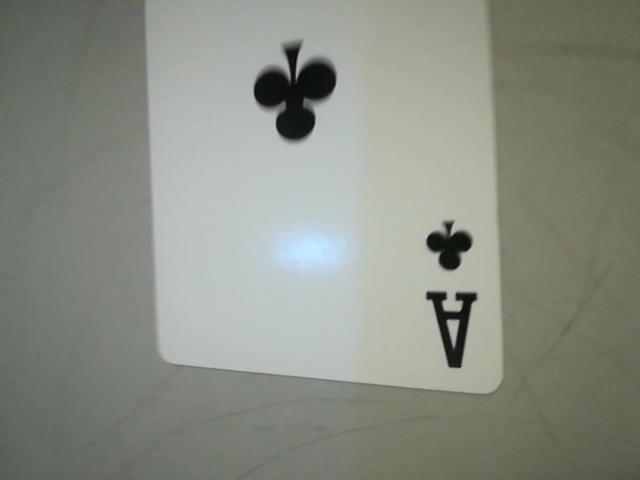mh a: (406, 206, 494, 382)
